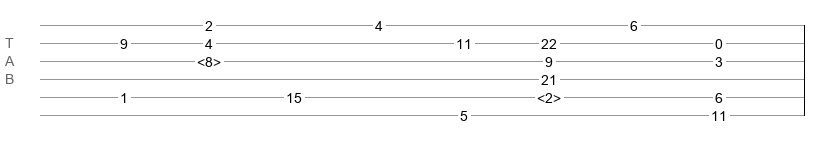0: (715, 36, 723, 46)
1: (120, 90, 128, 100)
11: (456, 36, 472, 46), (711, 108, 727, 118)
15: (286, 90, 302, 100)
2: (205, 18, 213, 28)
21: (541, 72, 557, 82)
22: (541, 36, 557, 46)
3: (715, 54, 723, 64)
4: (205, 36, 213, 46), (375, 18, 383, 28)
5: (460, 108, 468, 118)
6: (630, 18, 638, 28), (715, 90, 723, 100)
9: (120, 36, 128, 46), (545, 54, 553, 64)
harmonic: (197, 54, 221, 64), (537, 90, 561, 100)
